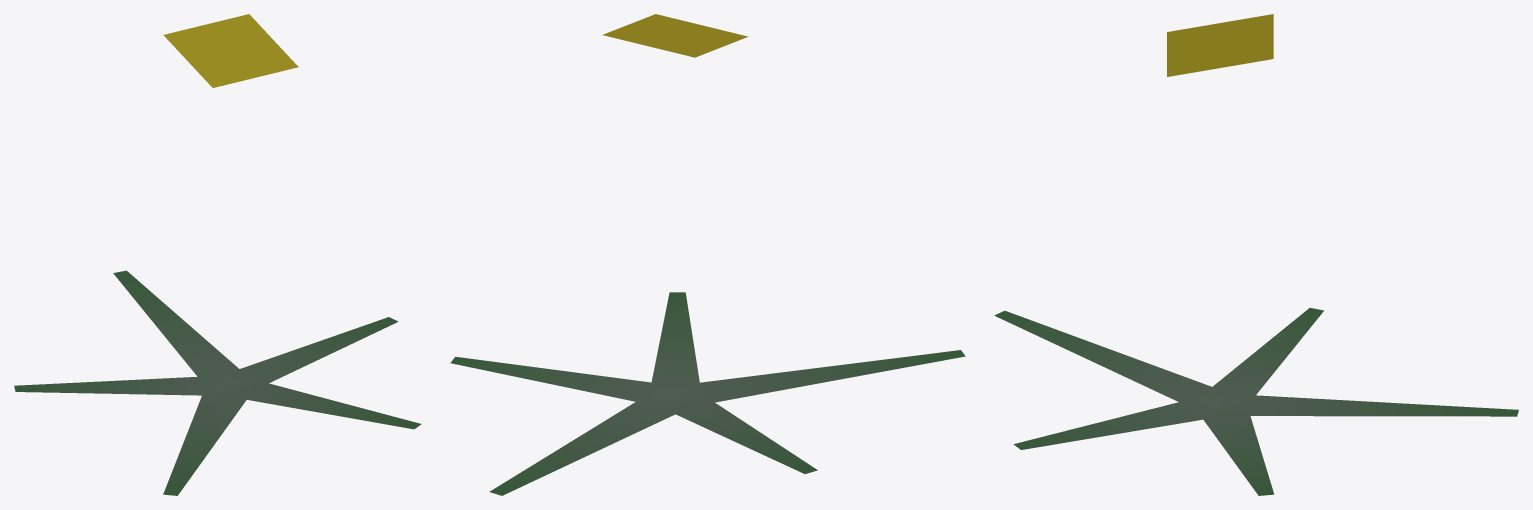
File: Accent_Dandelion.glb
The picture shows the model from 3 angles, left to right: view 1: azimuth 30°, elevation 25°; view 2: azimuth 150°, elevation 25°; view 3: azimuth 270°, elevation 25°; orthographic projection. The views are drawn at different scales.
Parts seen in each view (by area): view 1: Accent_Dandelion; view 2: Accent_Dandelion; view 3: Accent_Dandelion.
Boxes of the visible parts, x1,y1,x2,y2 form: Accent_Dandelion: (14, 14, 421, 495); Accent_Dandelion: (450, 14, 965, 495); Accent_Dandelion: (994, 14, 1518, 495).
Bounding box in the file's own units: 0.0669 × 0.061 × 0.0788.
